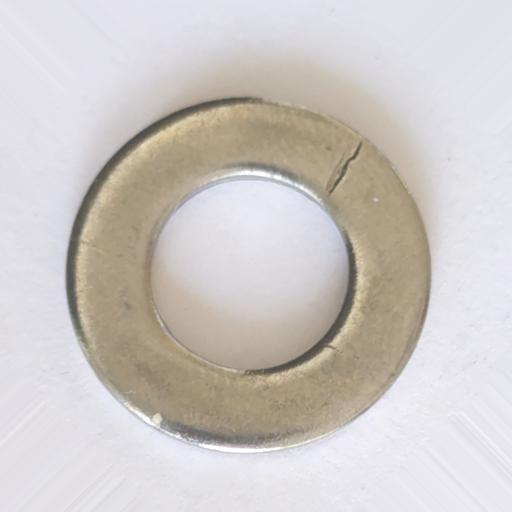scratch: (324, 138, 363, 199)
